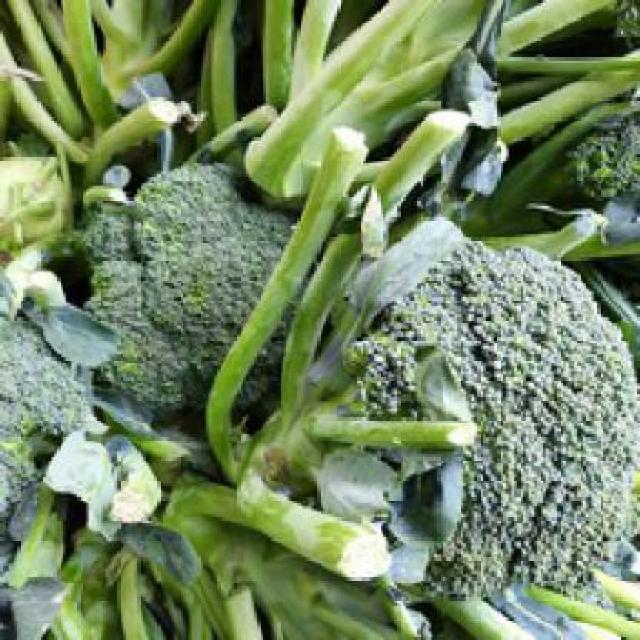broccoli: (268, 242, 638, 588), (39, 163, 315, 426)
